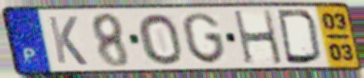8: (89, 12, 131, 69)
D: (275, 8, 324, 66)
G: (180, 11, 229, 66)
H: (231, 8, 286, 66)
K: (45, 15, 90, 68)
O: (136, 12, 186, 67)
